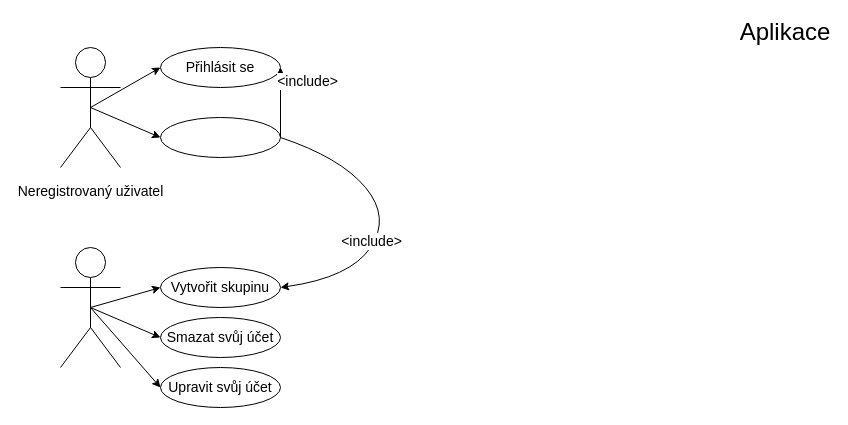
The diagram is 848 pixels wide and 425 high, and some of its shapes have lost their labels. Each missing label, with the centre of its shape:
"Registrovat se" belongs at point (220, 137).
"Uživatel" belongs at point (90, 307).
